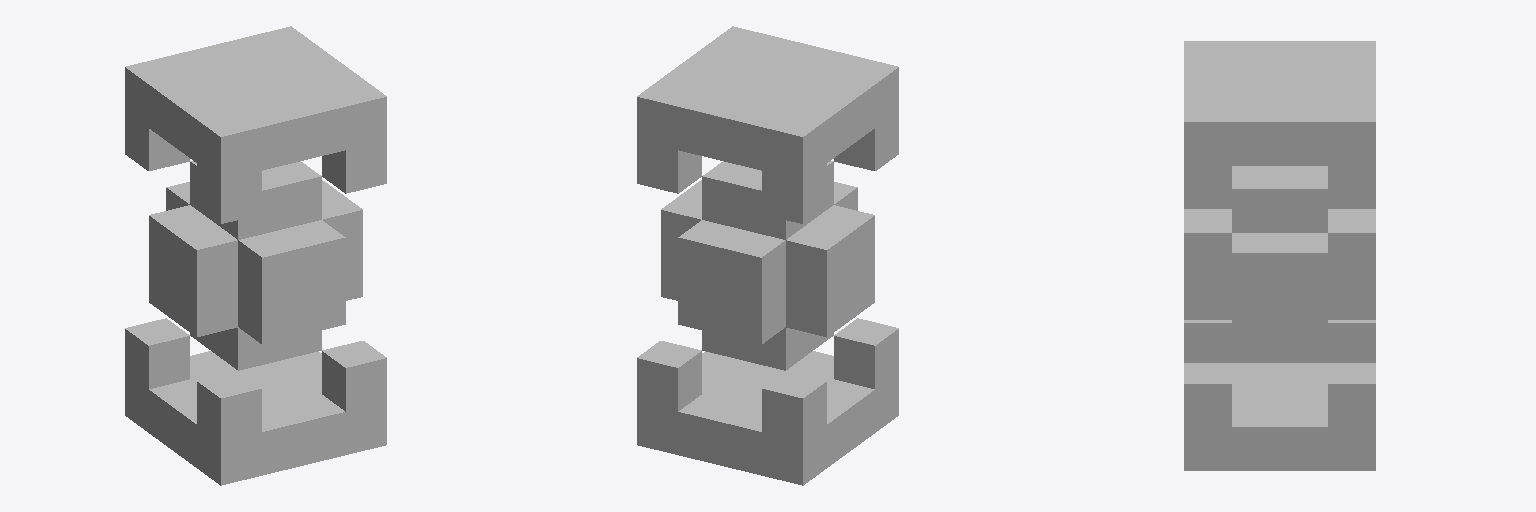
The model's file is energy cell.obj.
3 views of the same model, side by side, from view 1: azimuth 30°, elevation 25°; view 2: azimuth 150°, elevation 25°; view 3: azimuth 270°, elevation 25° (orthographic).
Parts seen in each view (by area): view 1: object 1; view 2: object 1; view 3: object 1.
Boxes of the visible parts, x1=… form: object 1: x1=125, y1=26, x2=386, y2=485; object 1: x1=637, y1=26, x2=898, y2=485; object 1: x1=1184, y1=41, x2=1375, y2=470.
Bounding box in the file's own units: 0.4 × 0.8 × 0.4.